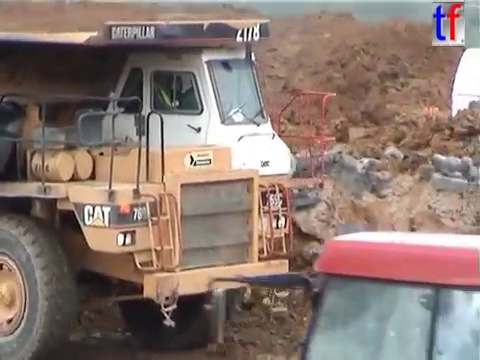truck: (1, 14, 340, 360), (201, 227, 480, 360)
